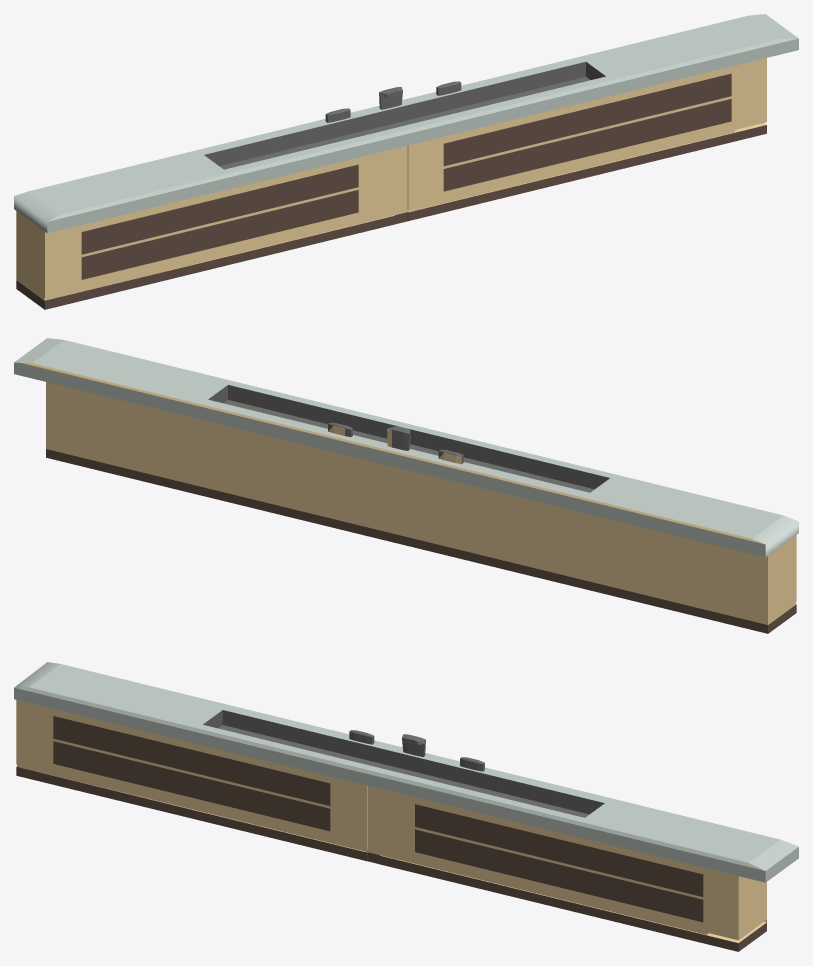
File: Cocina_Lavabo_07.fbx
The picture shows the model from 3 angles, top to bottom: view 1: azimuth 30°, elevation 25°; view 2: azimuth 150°, elevation 25°; view 3: azimuth 330°, elevation 25°; orthographic projection.
Visible parts, largest first — view 1: kitchen sink; view 2: kitchen sink; view 3: kitchen sink.
Part boxes in pixels (x1,y1,x2,y2): kitchen sink: (14,14,798,309); kitchen sink: (14,338,798,633); kitchen sink: (14,662,798,951).
Size of the model in its own units: 7.75 by 1.09 by 0.5947.
Materials: 4 (4 with a texture image).
